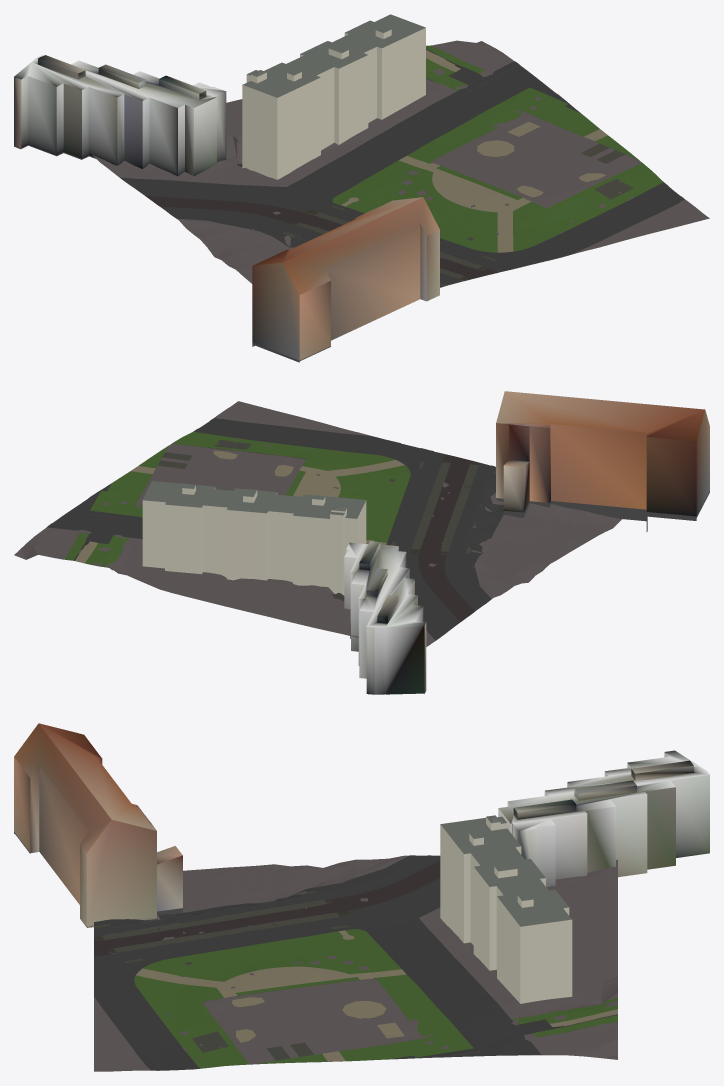
The picture shows the model from 3 angles, top to bottom: view 1: azimuth 30°, elevation 25°; view 2: azimuth 150°, elevation 25°; view 3: azimuth 270°, elevation 25°; orthographic projection. The views are drawn at different scales.
Parts seen in each view (by area): view 1: c_m09_p08; view 2: c_m09_p08; view 3: c_m09_p08.
Part boxes in pixels (x1=…): c_m09_p08: x1=14, y1=14, x2=709, y2=362; c_m09_p08: x1=14, y1=391, x2=709, y2=694; c_m09_p08: x1=14, y1=723, x2=709, y2=1071.
Size of the model in its own units: 150 by 36.03 by 170.
